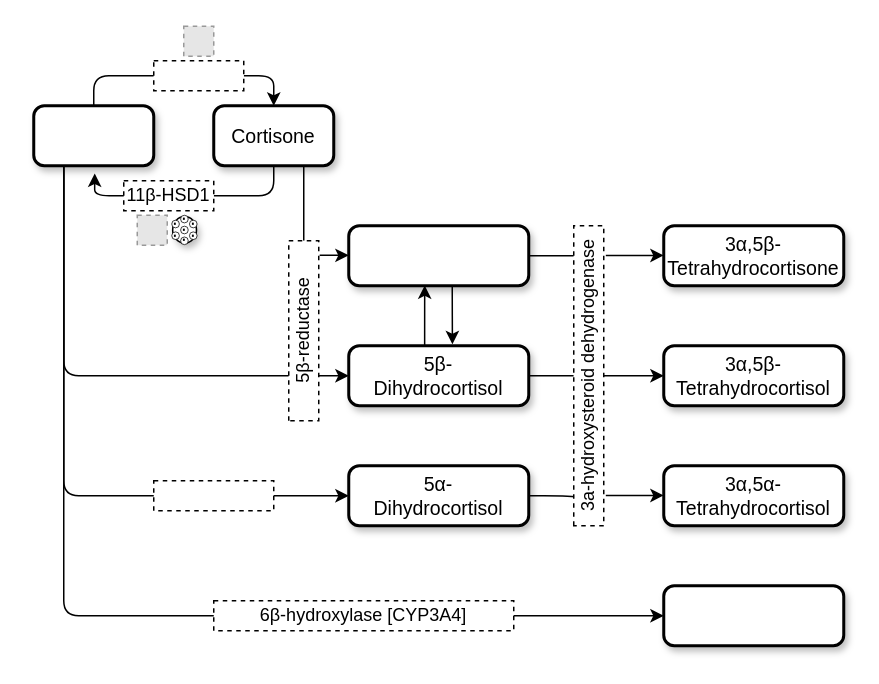
The diagram is 879 pixels wide and 684 high, and some of its shapes have lost their labels. Grey dashed boxes stand in for pictures. The shapes that lost their labels are listed below. From the top down, each one's centre as x and y in pixels, then its label:
At pixel 198 75: "11β-HSD2".
At pixel 95 137: "Cortisol".
At pixel 439 257: "5β- Dihydrocortisone".
At pixel 213 495: "5α-reductase".
At pixel 755 617: "6β- hydroxycortisol".
